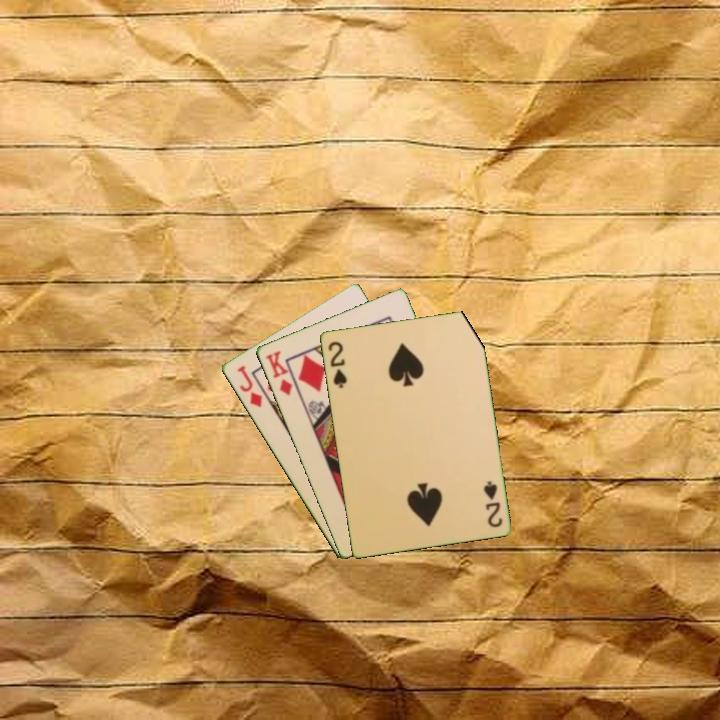2s: (324, 338, 349, 391), (480, 477, 505, 530)
Jd: (233, 362, 265, 410)
Kd: (261, 347, 295, 399)
